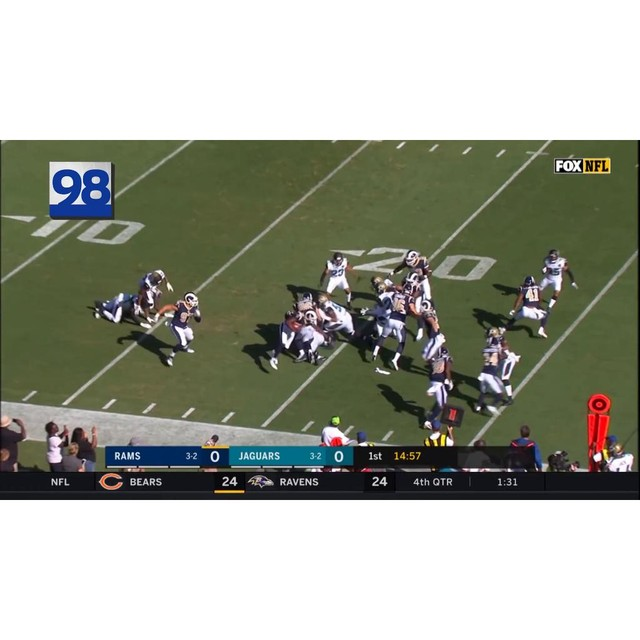american-football-player: (156, 292, 202, 367), (370, 287, 412, 369), (268, 304, 316, 369), (420, 346, 456, 428), (488, 327, 523, 405), (505, 276, 548, 339), (474, 336, 508, 415), (318, 294, 369, 346), (539, 249, 578, 314), (87, 289, 156, 324), (416, 301, 448, 365), (318, 252, 355, 304), (406, 251, 435, 302)
